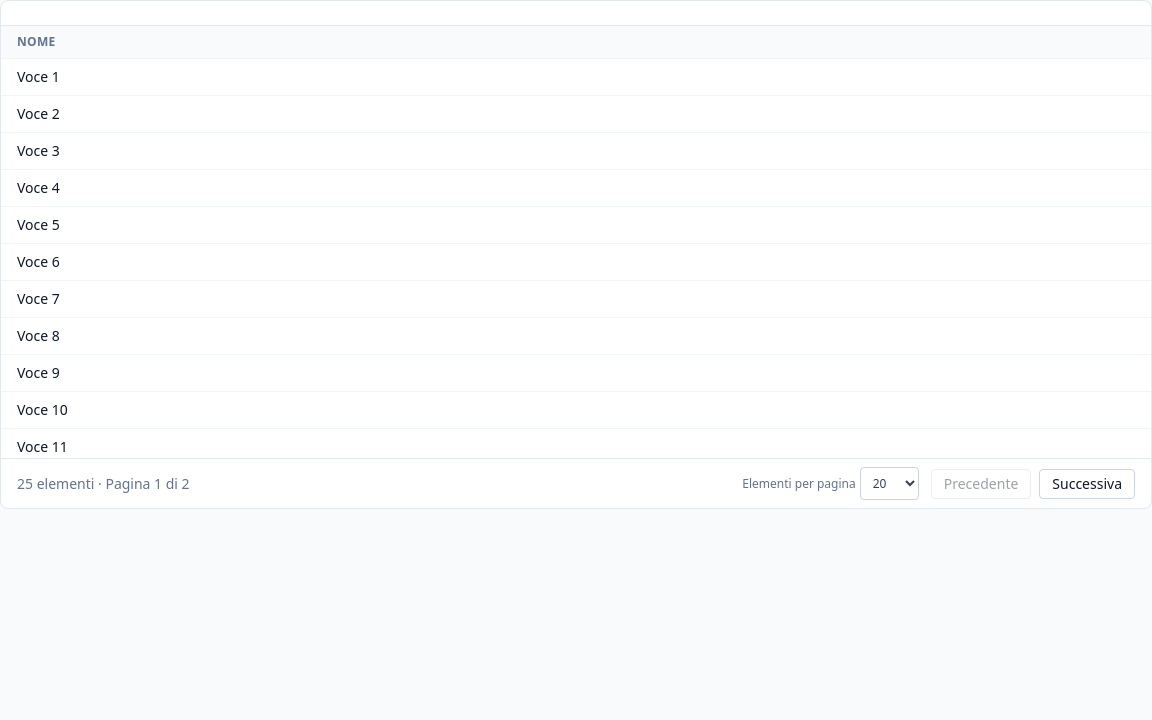
EntitySection › cambia il numero di elementi per pagina
Select "10" in the dropdown labelled "Elementi per pagina" at point(889, 484), box [860,467,919,500]
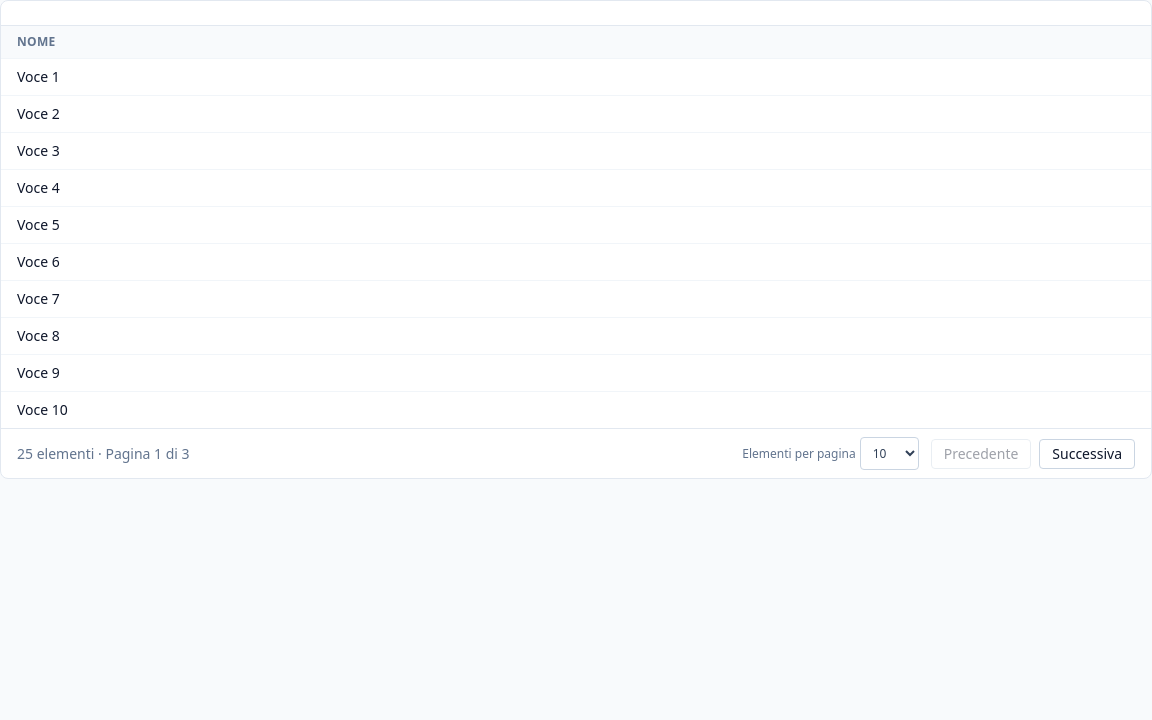
Expected: the text "25 elementi · Pagina 1 di 3" is shown, [17,444,190,464]
